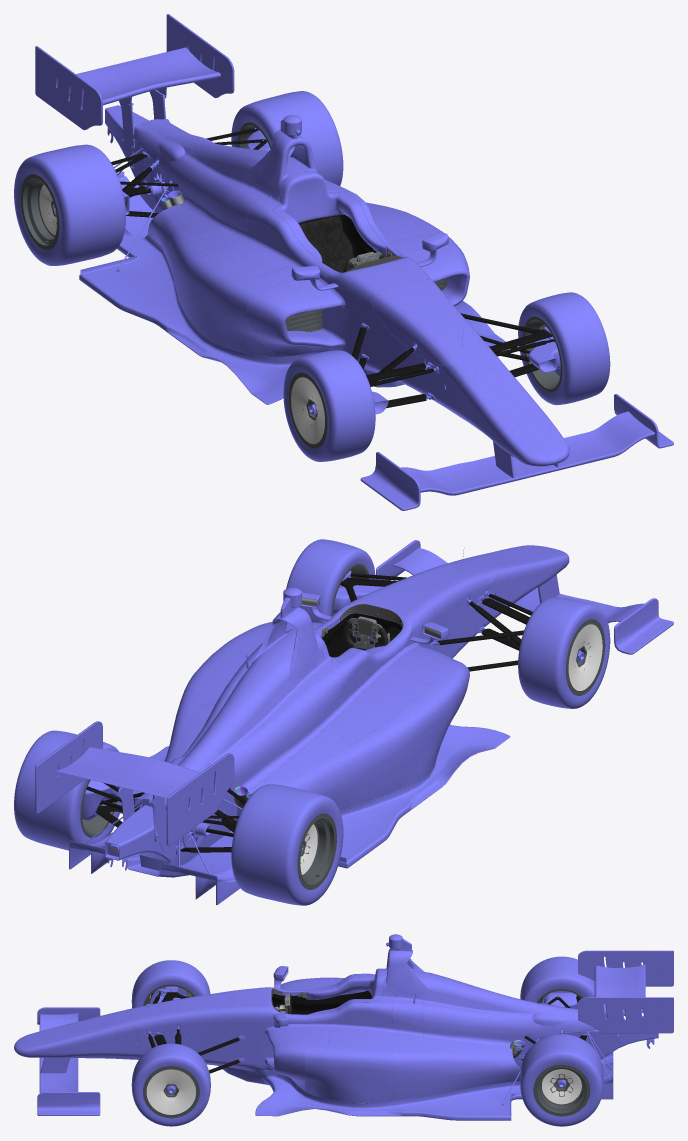
File: cavalier3.glb
3 renders of one model, top to bottom at view 1: azimuth 30°, elevation 25°; view 2: azimuth 150°, elevation 25°; view 3: azimuth 270°, elevation 25°, orthographic. The views are drawn at different scales.
Visible parts, largest first — view 1: urd_formulalights_oval; view 2: urd_formulalights_oval; view 3: urd_formulalights_oval.
Boxes of the visible parts, <box> form: urd_formulalights_oval: <box>14,14,673,510</box>; urd_formulalights_oval: <box>14,539,673,905</box>; urd_formulalights_oval: <box>14,934,673,1126</box>.
Bounding box in the file's own units: 1.78 × 1.2 × 5.
Materials: 30 (30 with a texture image).
